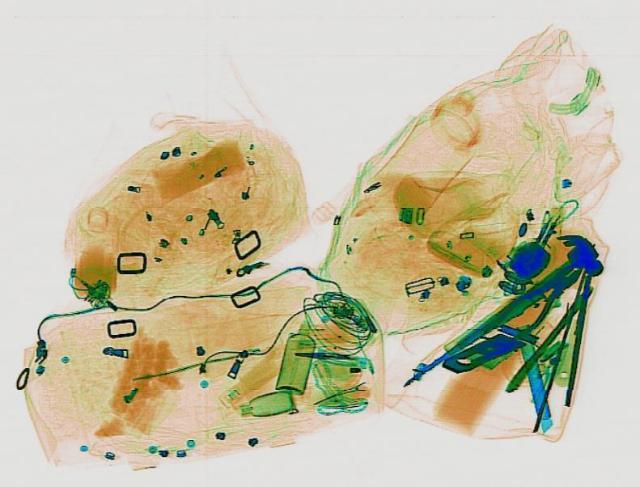Pliers: (477, 251, 598, 345)
